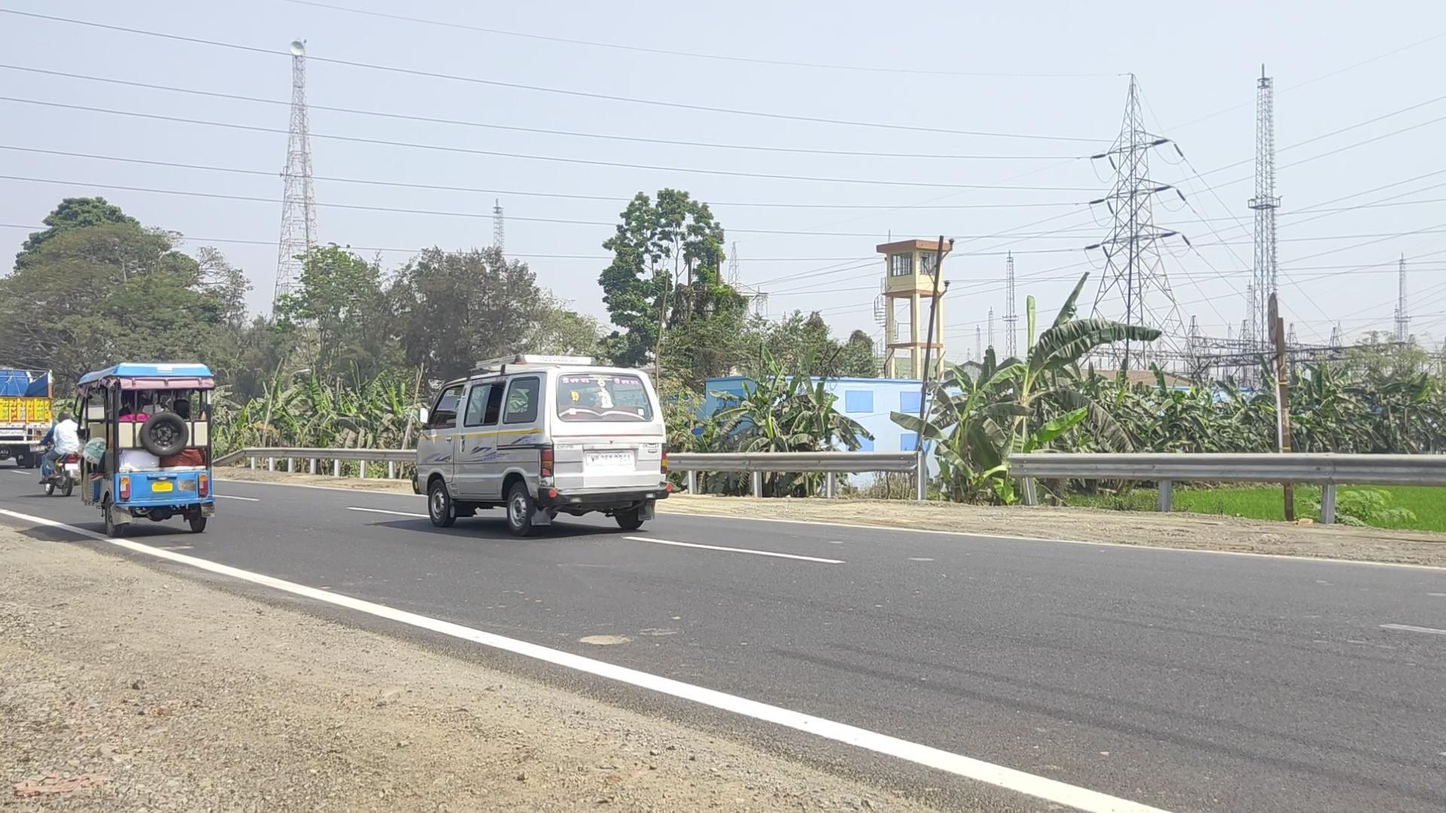Auto: (75, 362, 216, 538)
bike: (35, 411, 84, 497)
van: (412, 354, 671, 536)
